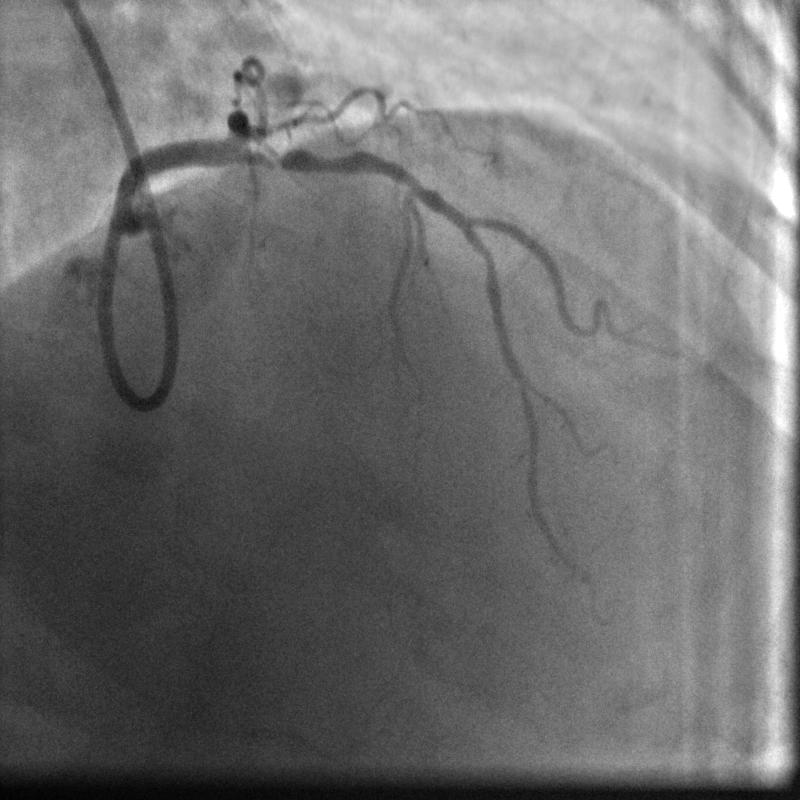Stenosis: (261, 139, 357, 172)
